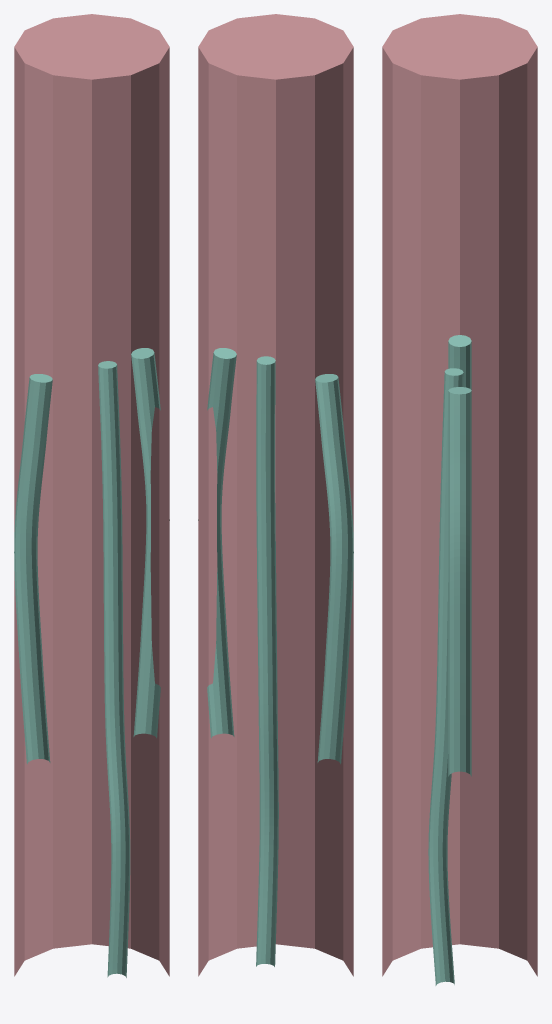
The model's file is devices_stent.glb.
3 renders of one model, left to right at view 1: azimuth 30°, elevation 25°; view 2: azimuth 150°, elevation 25°; view 3: azimuth 270°, elevation 25°, orthographic.
Visible parts, largest first — view 1: Vaso de referência, Microcateter — linha didática, Malha longitudinal de stent — referência, Stent — linha de referência; view 2: Vaso de referência, Microcateter — linha didática, Malha longitudinal de stent — referência, Stent — linha de referência; view 3: Vaso de referência, Stent — linha de referência, Microcateter — linha didática, Malha longitudinal de stent — referência.
Part boxes in pixels (bbox=[...]): Vaso de referência: bbox=[14, 14, 169, 976]; Microcateter — linha didática: bbox=[98, 361, 130, 977]; Malha longitudinal de stent — referência: bbox=[14, 374, 52, 764]; Stent — linha de referência: bbox=[131, 348, 169, 738]; Vaso de referência: bbox=[198, 14, 353, 976]; Microcateter — linha didática: bbox=[256, 356, 278, 966]; Malha longitudinal de stent — referência: bbox=[315, 374, 353, 764]; Stent — linha de referência: bbox=[198, 348, 236, 738]; Vaso de referência: bbox=[382, 14, 537, 976]; Stent — linha de referência: bbox=[448, 387, 471, 776]; Microcateter — linha didática: bbox=[428, 368, 463, 985]; Malha longitudinal de stent — referência: bbox=[448, 335, 471, 389].
Size of the model in its own units: 1.2 by 7 by 1.06.
